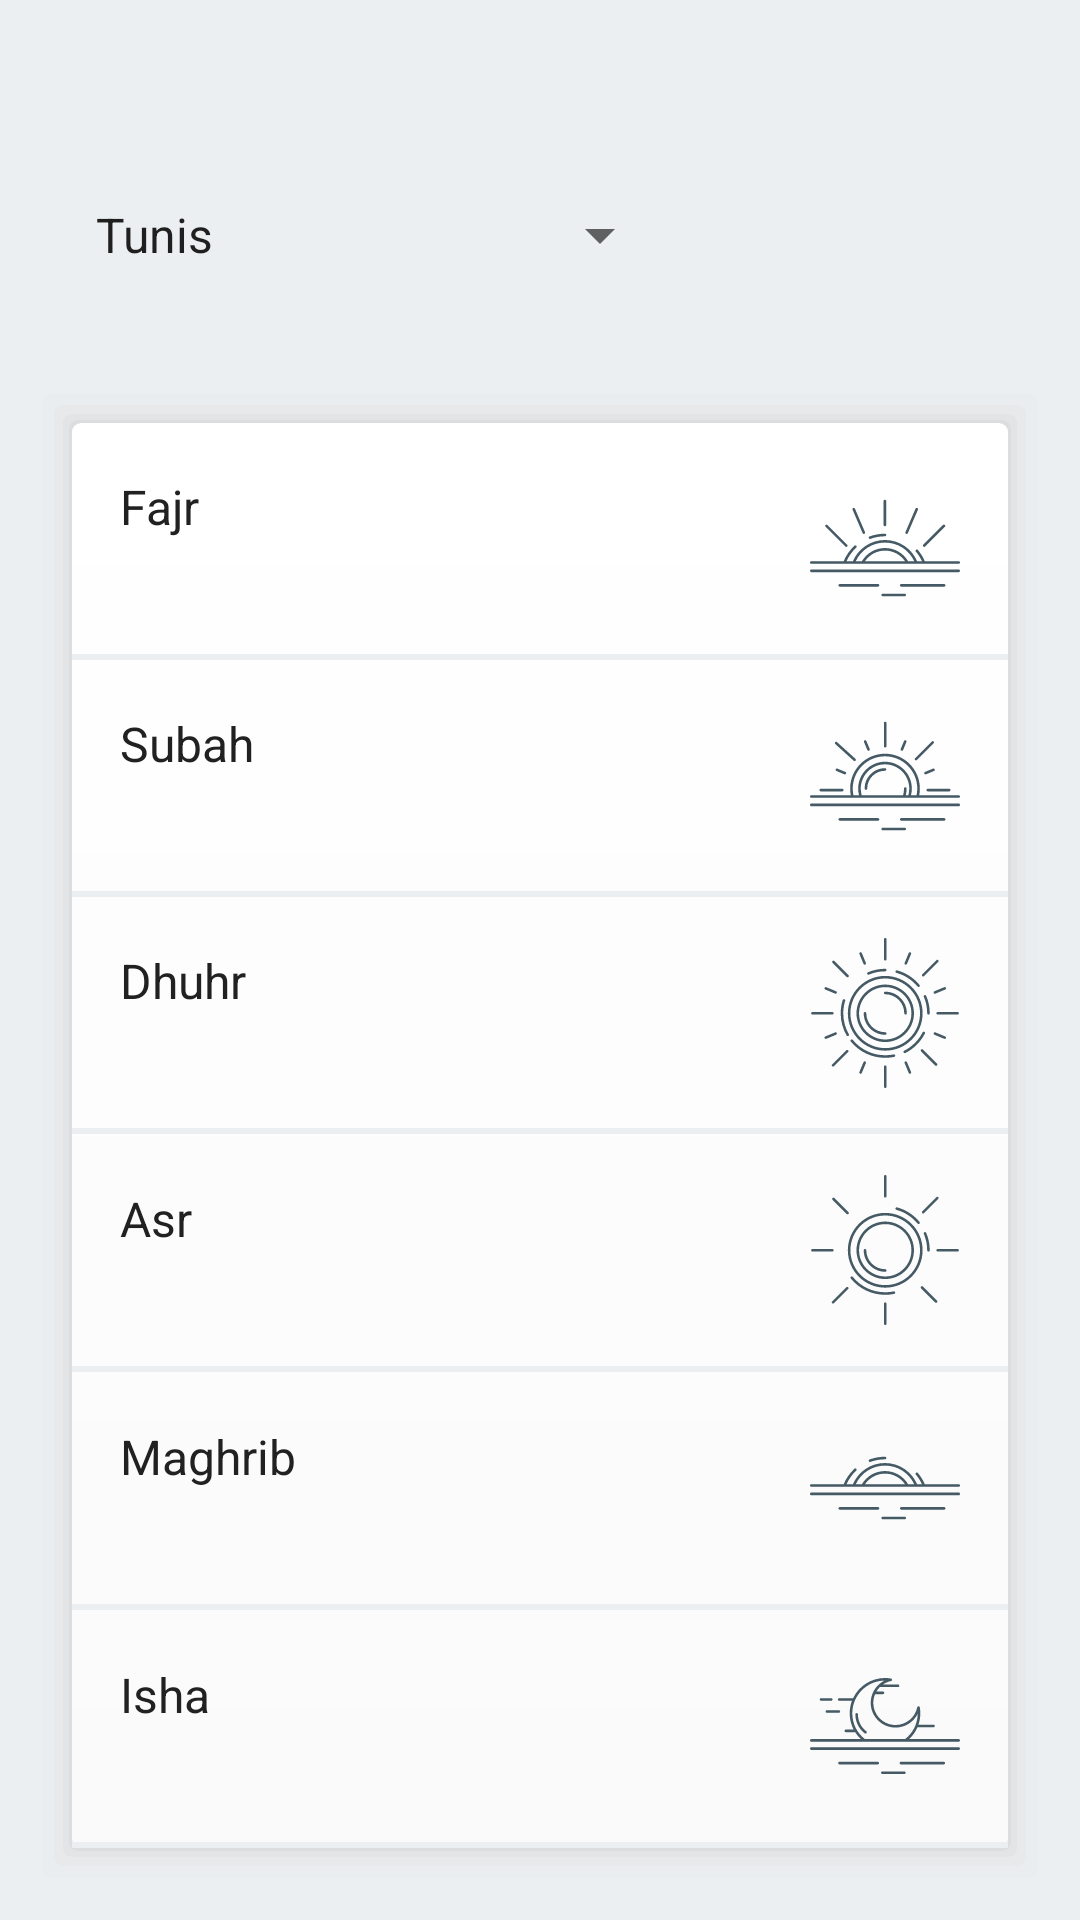

Icon bounding boxes for this 1080*1920 phone screenshot, format {"left": x1, "top": y1, "right": x2, "bottom": y2}:
asr: {"left": 811, "top": 1175, "right": 959, "bottom": 1325}
isha: {"left": 810, "top": 1678, "right": 960, "bottom": 1774}
meghrib: {"left": 810, "top": 1456, "right": 960, "bottom": 1520}
subah: {"left": 810, "top": 721, "right": 960, "bottom": 831}
zuhar: {"left": 811, "top": 938, "right": 959, "bottom": 1088}
